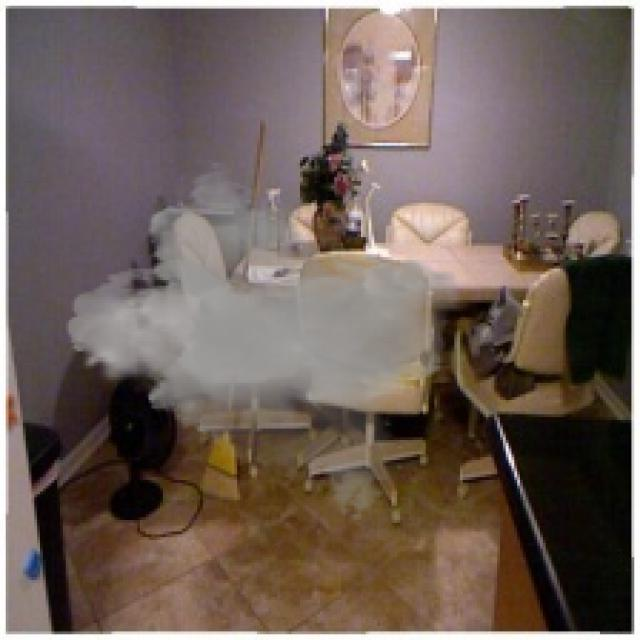smoke: (66, 160, 463, 523)
